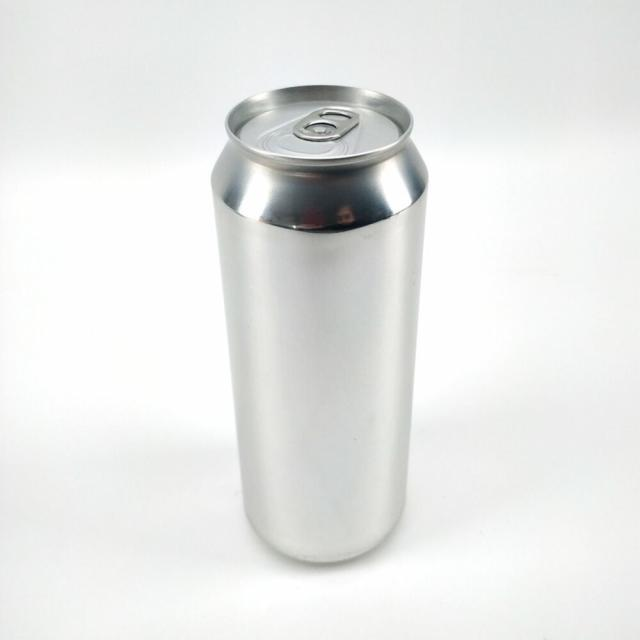can: (201, 76, 454, 576)
